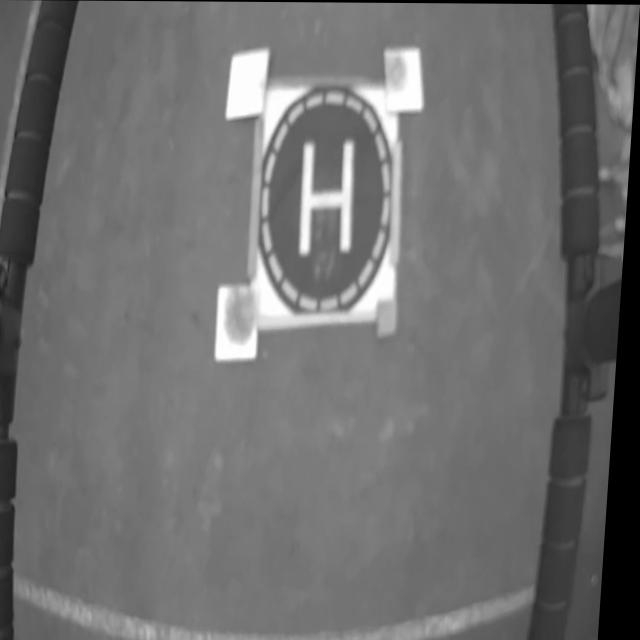Helipad: (300, 138, 357, 258)
